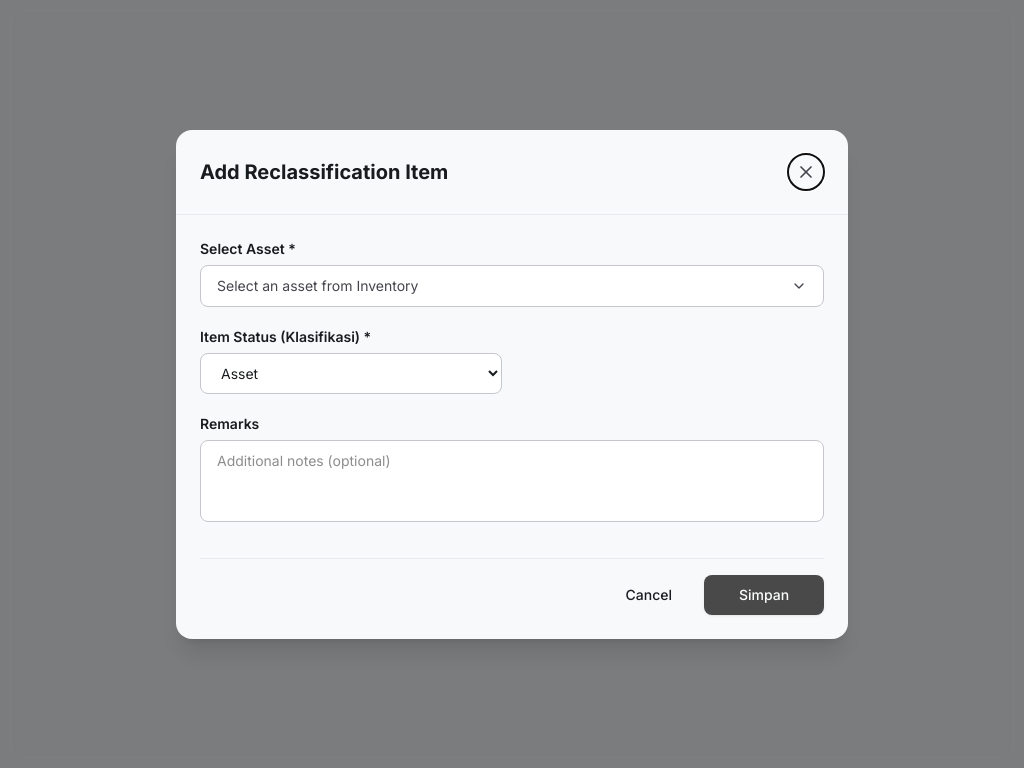
Test case: AddReclassificationModal — asset picker › ignores unlinked rows when working out what is already linked
Click the button "Select an asset from Inventory". click: (318, 285)
box: [200, 264, 824, 306]
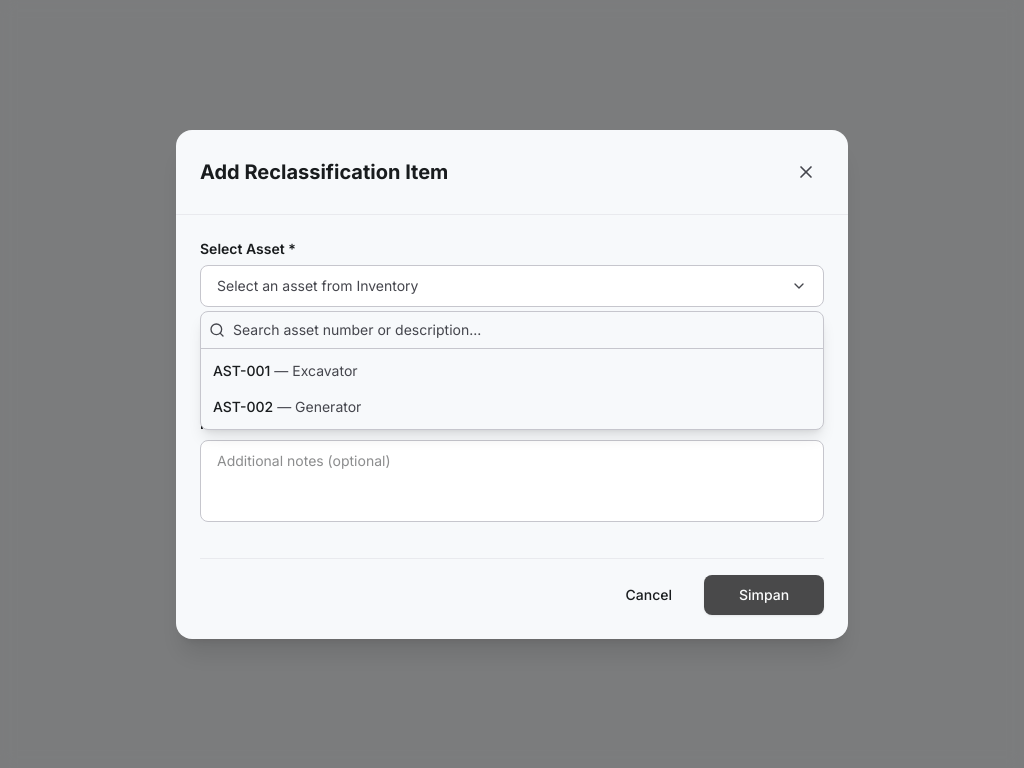
Expected: the text "AST-001" is shown, [213, 362, 270, 378]
Expected: the text "AST-002" is shown, [213, 398, 273, 414]
